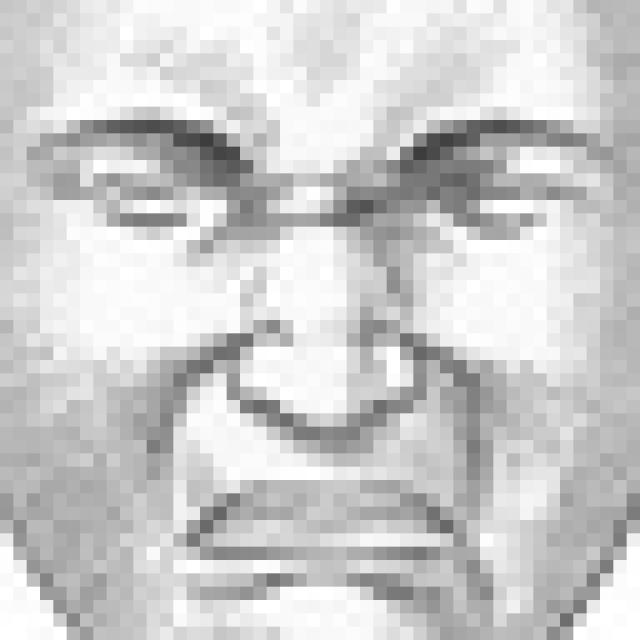disgust: (0, 72, 640, 607)
